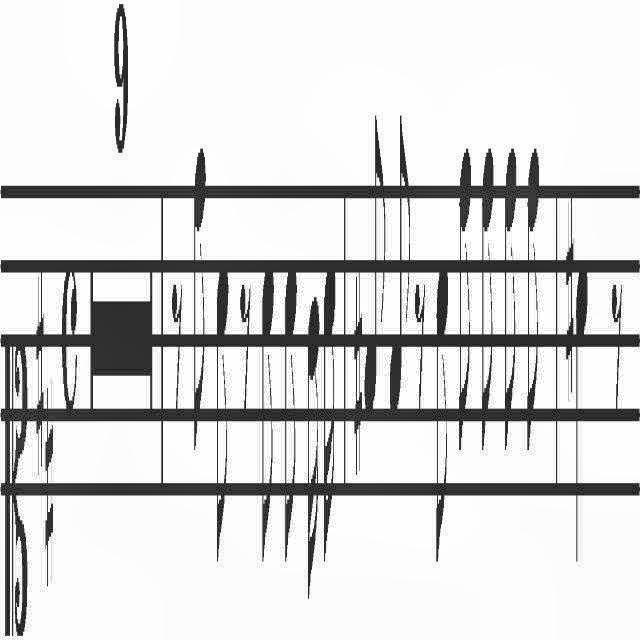Diez: (565, 191, 575, 403), (45, 379, 55, 581), (353, 276, 363, 476), (36, 266, 44, 472)
Eighth-note: (364, 107, 388, 420), (389, 105, 411, 415), (526, 147, 542, 465), (480, 140, 494, 460), (192, 137, 206, 455), (215, 258, 229, 574), (503, 142, 517, 458), (261, 258, 275, 568), (284, 258, 298, 562), (458, 134, 470, 452), (436, 258, 448, 570)
Eighth-rest: (238, 279, 252, 413), (610, 268, 622, 420), (414, 268, 426, 418), (172, 276, 184, 416)
Quarter-note: (575, 258, 589, 574)
Sixteenth-note: (320, 263, 336, 583), (306, 284, 320, 612)
